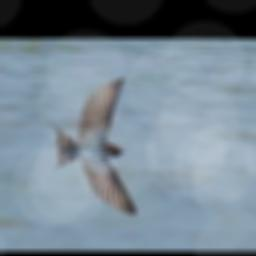Swallow: (44, 77, 135, 215)
